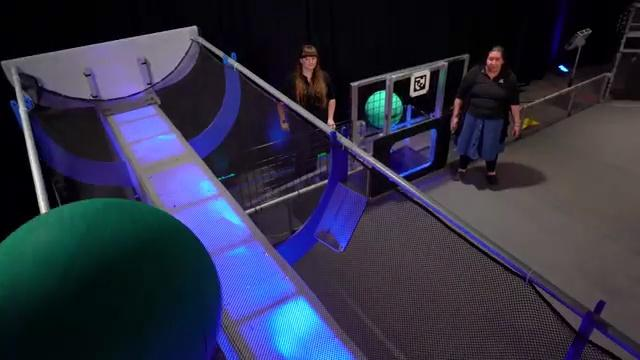ALGAE: (0, 196, 223, 358), (364, 89, 403, 128)
